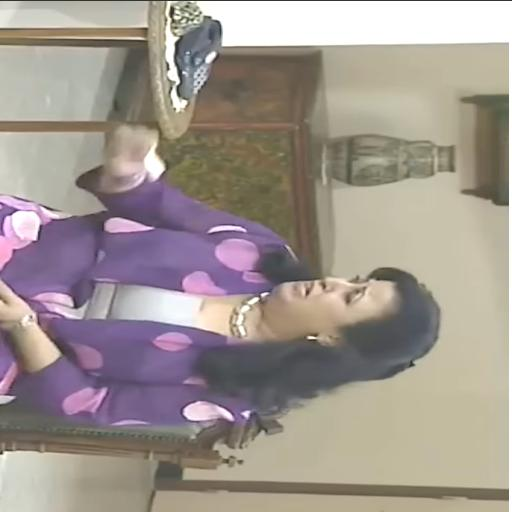jannet: (261, 268, 438, 362)
